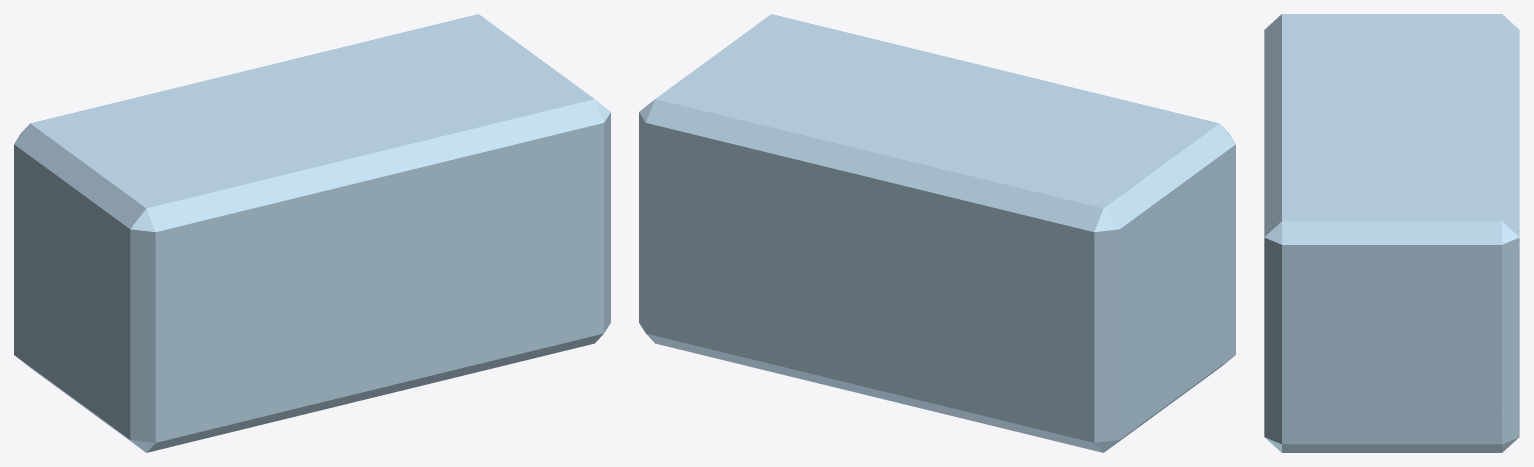
File: R4B_Beam2.fbx
The picture shows the model from 3 angles, left to right: view 1: azimuth 30°, elevation 25°; view 2: azimuth 150°, elevation 25°; view 3: azimuth 270°, elevation 25°; orthographic projection. The views are drawn at different scales.
Visible parts, largest first — view 1: R4B_Beam2; view 2: R4B_Beam2; view 3: R4B_Beam2.
Boxes of the visible parts, x1,y1,x2,y2 form: R4B_Beam2: [14, 14, 610, 452]; R4B_Beam2: [639, 14, 1235, 452]; R4B_Beam2: [1264, 14, 1519, 452].
Bounding box in the file's own units: 1.07 × 0.52 × 0.52.
